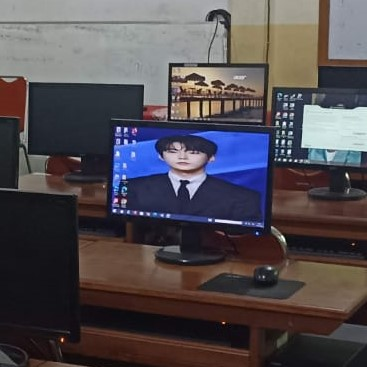monitor: (106, 118, 276, 239), (0, 189, 81, 353), (26, 83, 144, 180), (271, 86, 366, 172), (167, 63, 269, 125), (0, 116, 20, 190)
